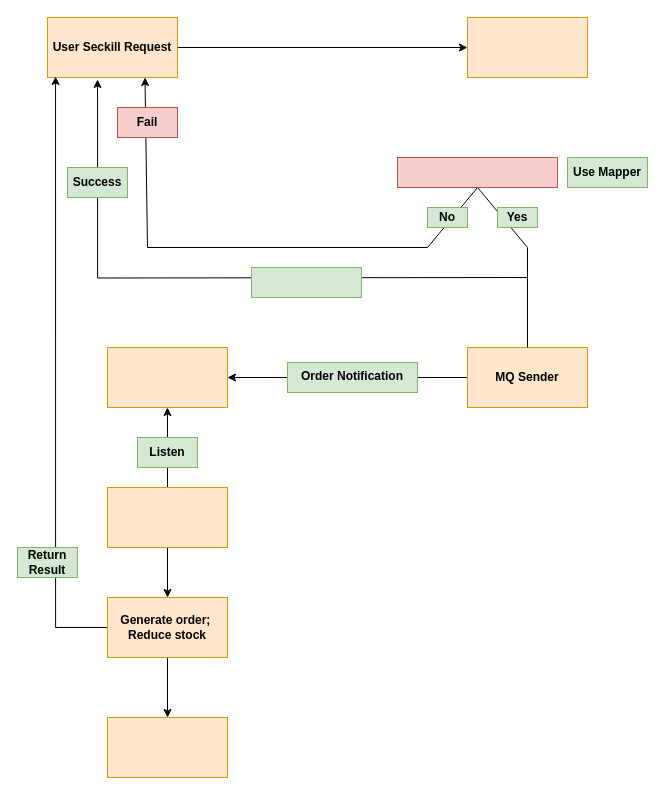
Image size: 665x795. Some labels were removed from this diagram. Here are the shapes that lost their labels. From the top down, the centre of each, then its label:
the point at 527,47: doseckill Controller
the point at 477,172: Checkl if the order is legal
the point at 306,282: Return Success
the point at 167,377: Queue
the point at 167,517: MQ Receuver
the point at 167,747: MySQL
